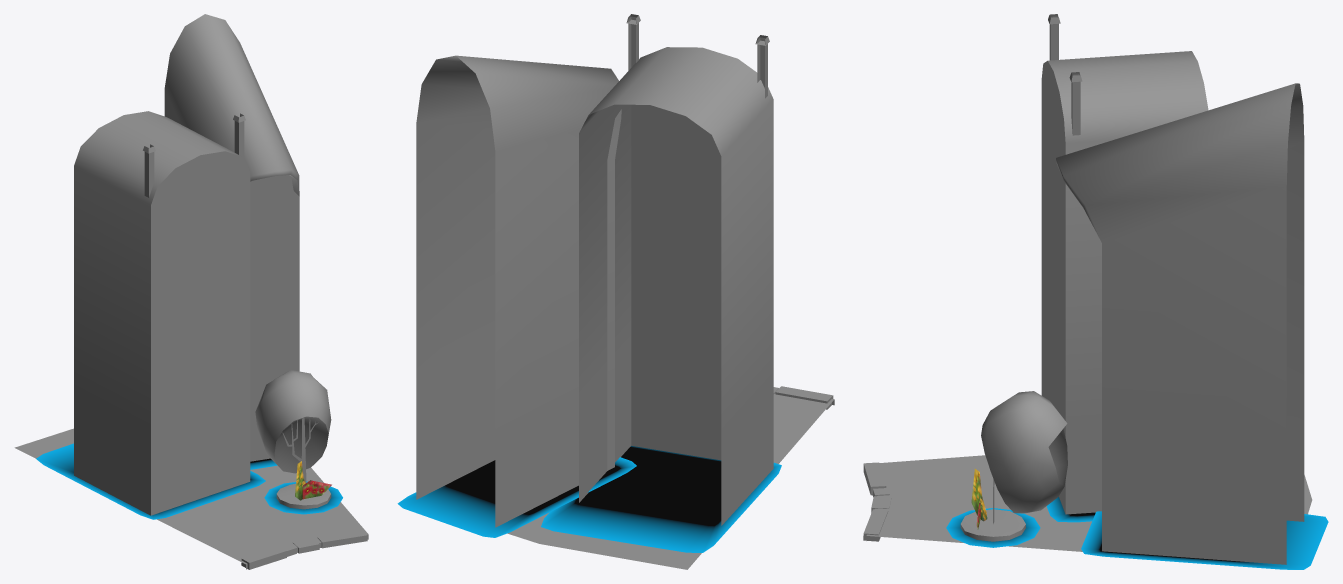
The model's file is CharacterWedge (3).fbx.
3 renders of one model, left to right at view 1: azimuth 30°, elevation 25°; view 2: azimuth 150°, elevation 25°; view 3: azimuth 270°, elevation 25°, orthographic. The views are drawn at different scales.
Visible parts, largest first — view 1: Building_OldTown_A, Building_OldTown_G, Start_Wedge, Tree_A, Building_Shadow, Round_Shadow, ParkMound_D (2), Sidewalk_Brick_A (3), Sidewalk_Brick_A (2); view 2: Building_OldTown_A, Building_OldTown_G, Building_Shadow, Building_Shadow (1), Start_Wedge, Sidewalk_Brick_A (3); view 3: Building_OldTown_G, Building_OldTown_A, Start_Wedge, Tree_A, Building_Shadow (1), ParkMound_D (2), Round_Shadow, Building_Shadow.
Part boxes in pixels (box(x1,y1,x2,y2)): Building_OldTown_A: box(74, 111, 250, 515); Building_OldTown_G: box(164, 14, 299, 461); Start_Wedge: box(14, 428, 368, 569); Tree_A: box(255, 370, 331, 482); Building_Shadow: box(36, 443, 265, 519); Round_Shadow: box(264, 481, 342, 514); ParkMound_D (2): box(276, 483, 331, 509); Sidewalk_Brick_A (3): box(241, 546, 286, 569); Sidewalk_Brick_A (2): box(317, 530, 367, 548); Building_OldTown_A: box(579, 14, 773, 525); Building_OldTown_G: box(416, 55, 621, 527); Building_Shadow: box(541, 446, 781, 552); Building_Shadow (1): box(397, 457, 636, 537); Start_Wedge: box(507, 393, 834, 569); Sidewalk_Brick_A (3): box(775, 386, 833, 409); Building_OldTown_G: box(1056, 83, 1304, 564); Building_OldTown_A: box(1041, 14, 1208, 514); Start_Wedge: box(866, 455, 1312, 551); Tree_A: box(981, 391, 1067, 523); Building_Shadow (1): box(1081, 511, 1328, 569); ParkMound_D (2): box(960, 509, 1025, 541); Round_Shadow: box(946, 508, 1040, 547); Building_Shadow: box(1046, 497, 1095, 522).
Size of the model in its own units: 9.71 by 15.22 by 13.72.
